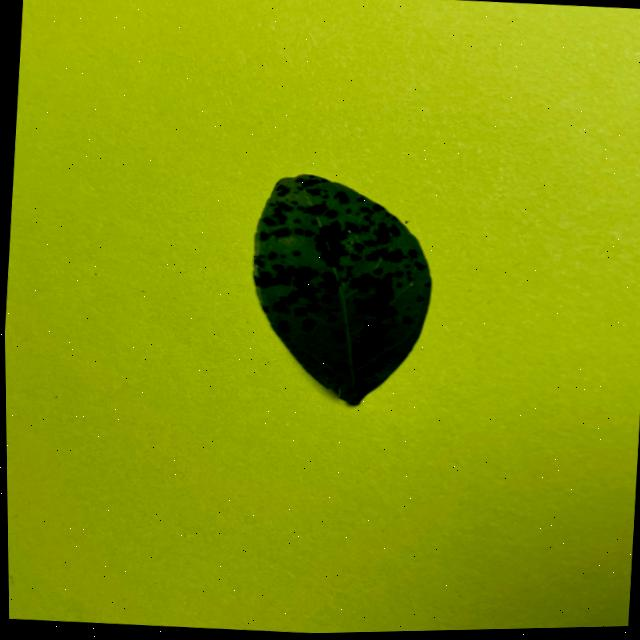sooty_mold: (252, 173, 430, 402)
